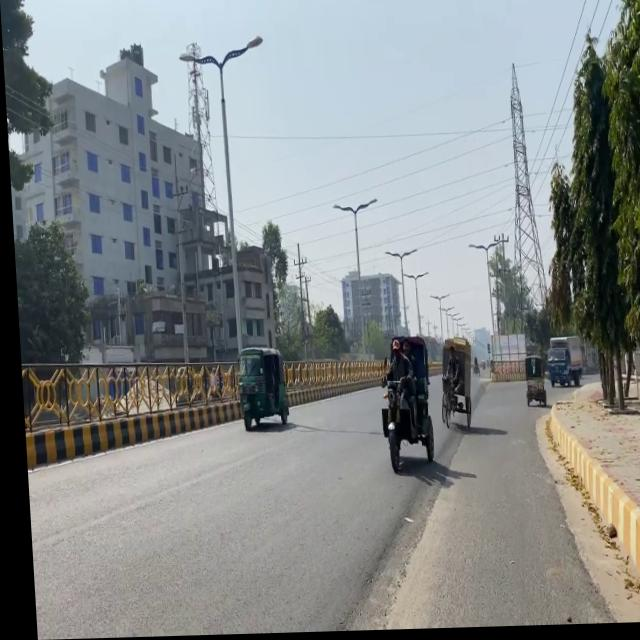Construction-barrier: (528, 413, 609, 626), (19, 397, 239, 471)
Fallen-tree: (434, 377, 466, 432)
Garbage-bin: (437, 347, 460, 412)
Pothole: (379, 375, 640, 632)
Traffic-cone: (374, 376, 430, 476), (230, 347, 284, 432), (541, 338, 580, 391)
